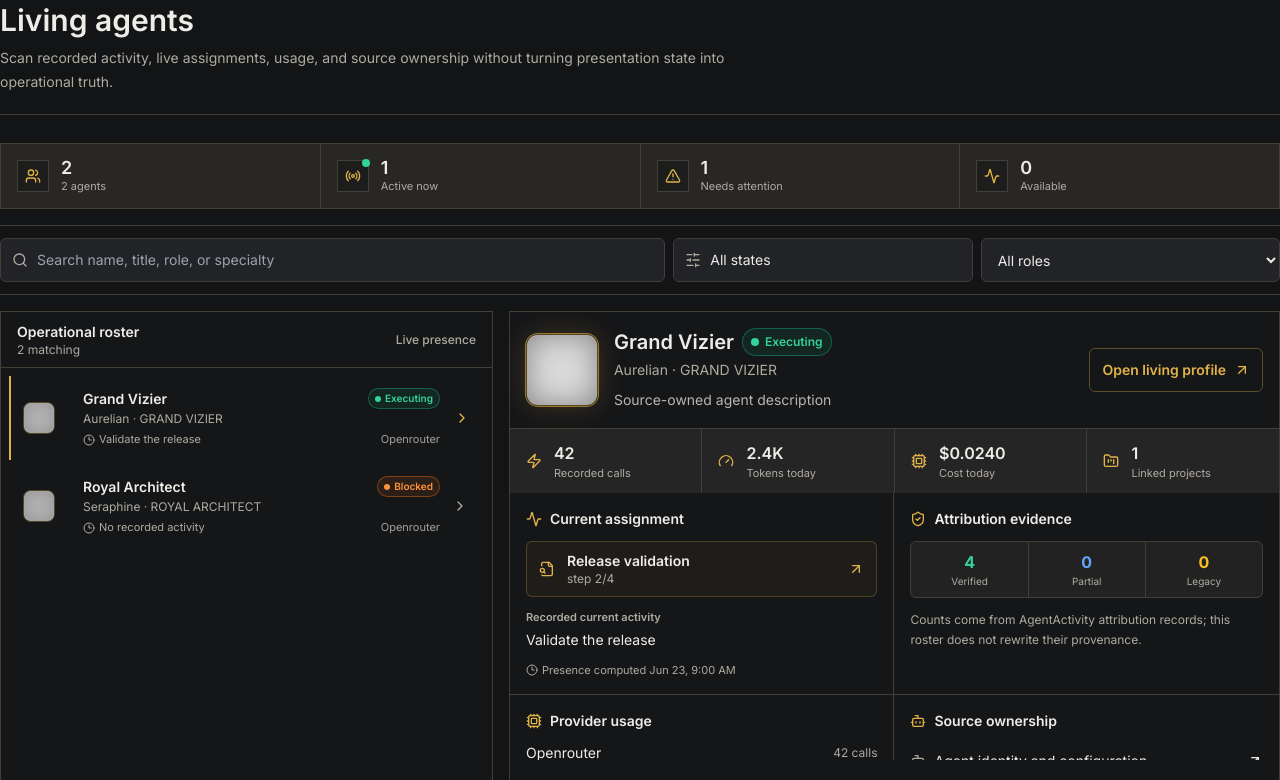
Test: LivingAgentsPage operational roster › switches selection and exposes real blocking evidence without inferring work
This screenshot has width=1280, height=780.
Click the button with aria-label "Select Royal Architect": (246, 506) [9,464,484,548]
(page scrolled)
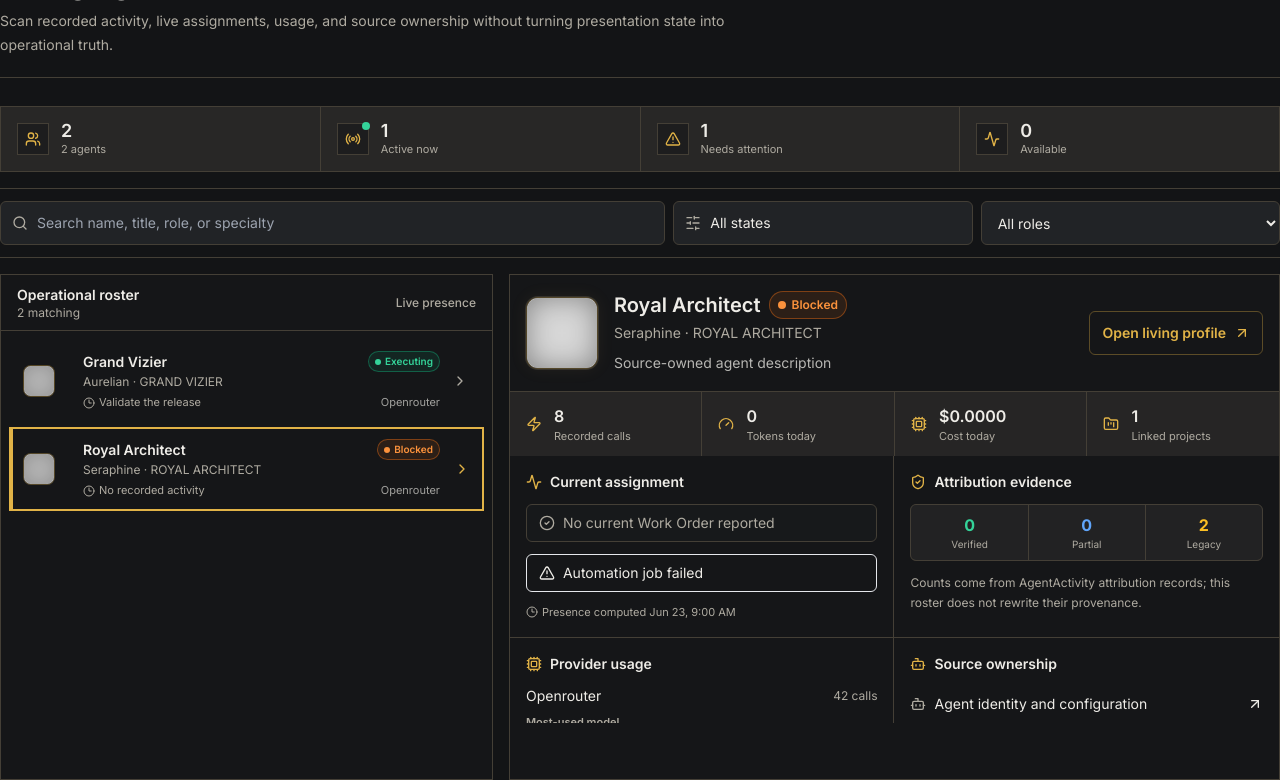
Now the element named "Selected agent evidence" shows "Blocked", box [792,297,838,312]
Now the element named "Selected agent evidence" shows "Automation job failed", box [563,564,703,581]
Now the element named "Selected agent evidence" shows "No current Work Order reported", box [563,514,775,531]
